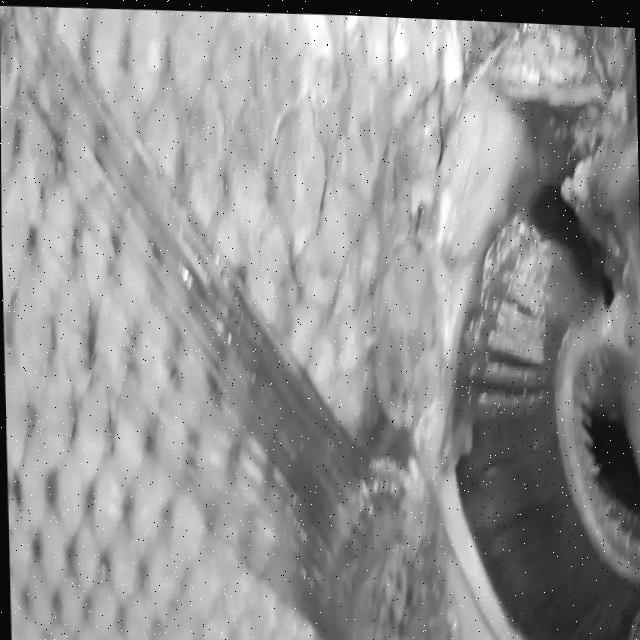Non-Fresh: (425, 212, 640, 635)
